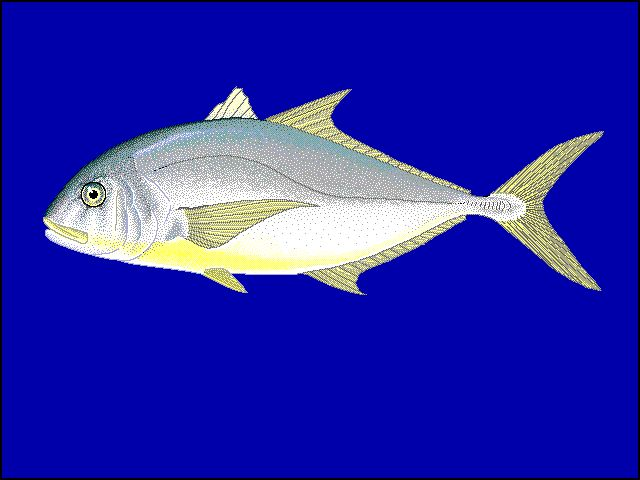fish: (42, 84, 605, 296)
